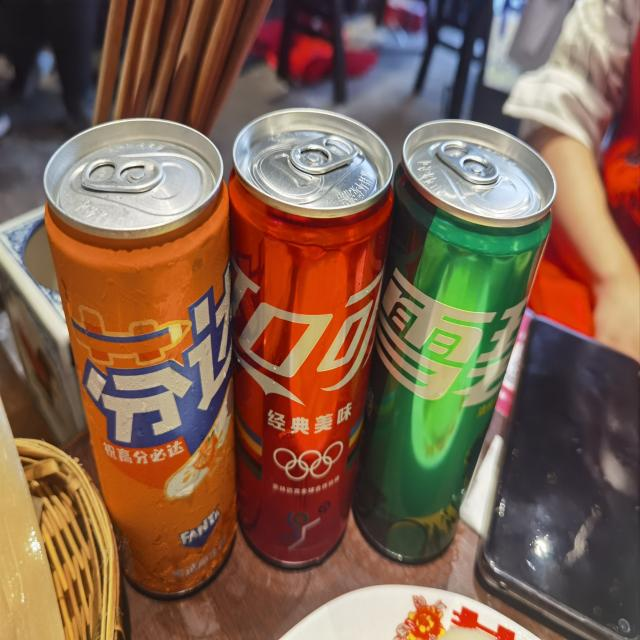can: (40, 114, 240, 605), (354, 112, 559, 571), (230, 102, 396, 574)
